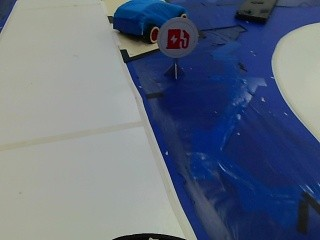battery: (157, 22, 197, 57)
